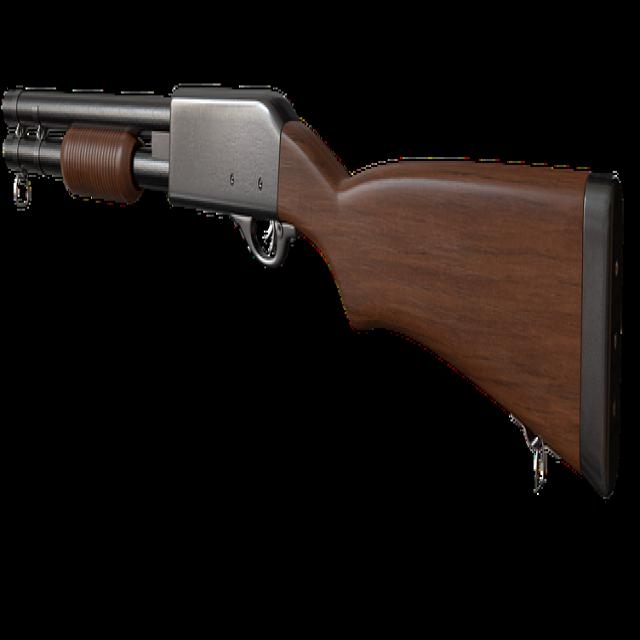Weapon: (3, 85, 593, 463)
